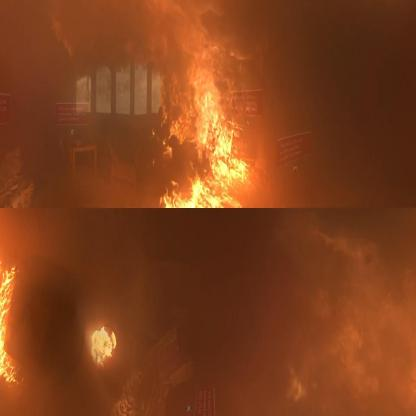fire: (160, 49, 254, 210), (0, 252, 20, 386), (91, 320, 117, 373)
